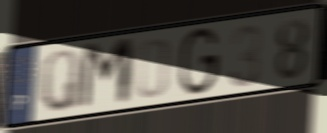0: (135, 35, 172, 100)
3: (228, 21, 264, 89)
8: (273, 14, 311, 84)
G: (176, 25, 222, 98)
M: (77, 35, 136, 115)
Q: (38, 47, 83, 115)
